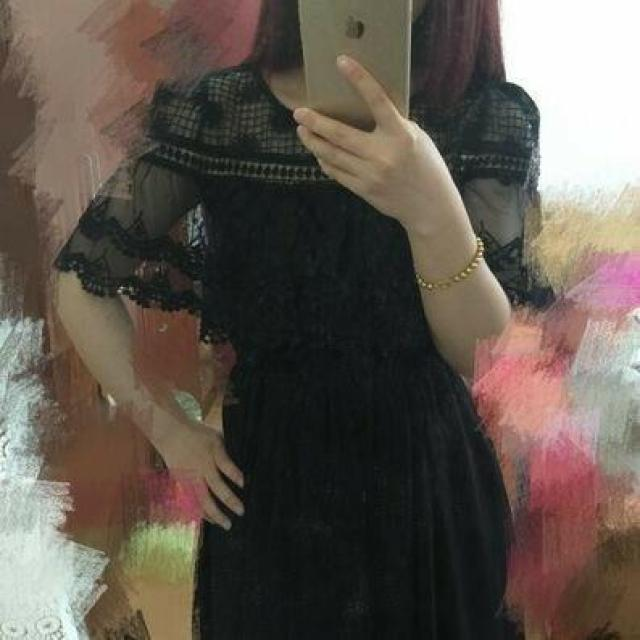short-sleeve-dress: (97, 46, 599, 628)
